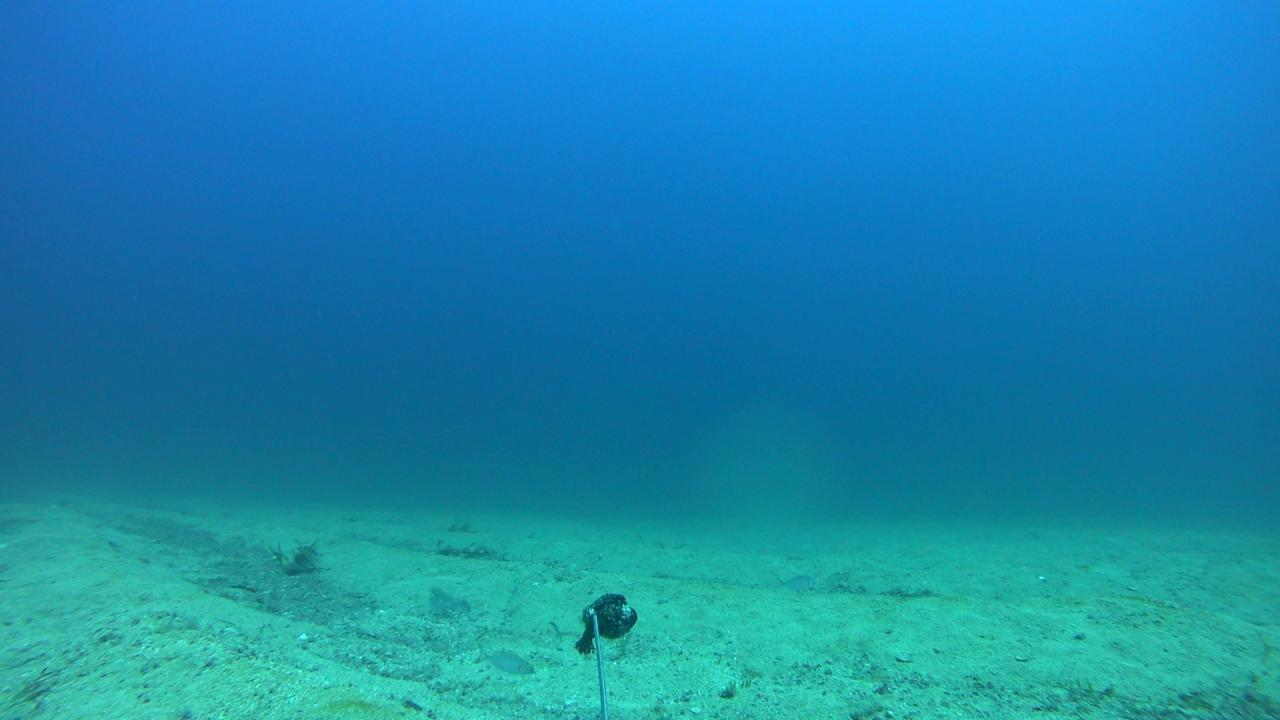pagellus: (475, 644, 534, 676), (774, 572, 817, 592)
